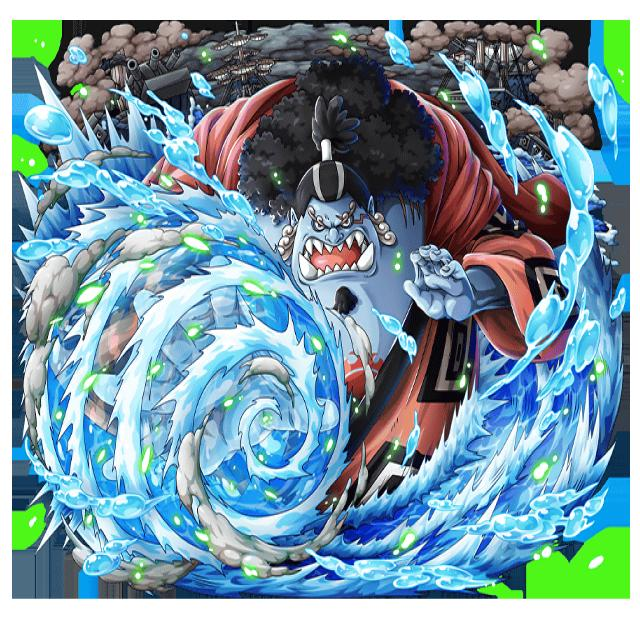Jinbe: (194, 58, 569, 498)
